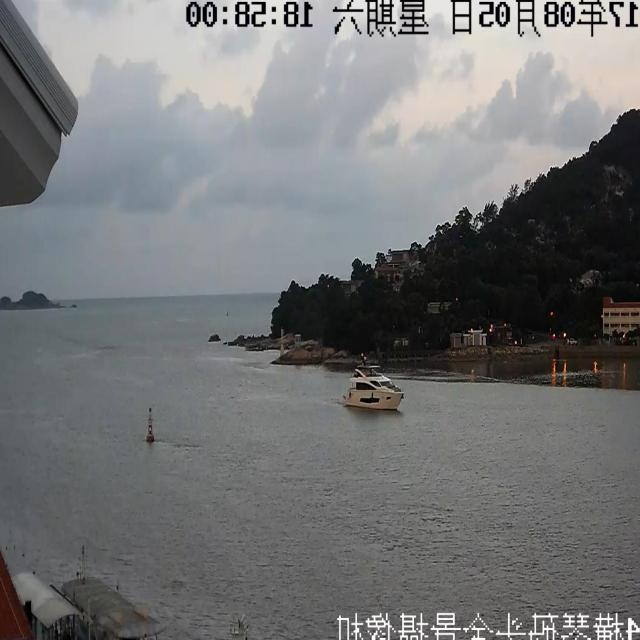buoy: (134, 413, 166, 454)
passenger ship: (336, 344, 403, 431)
reef: (0, 278, 71, 329)
